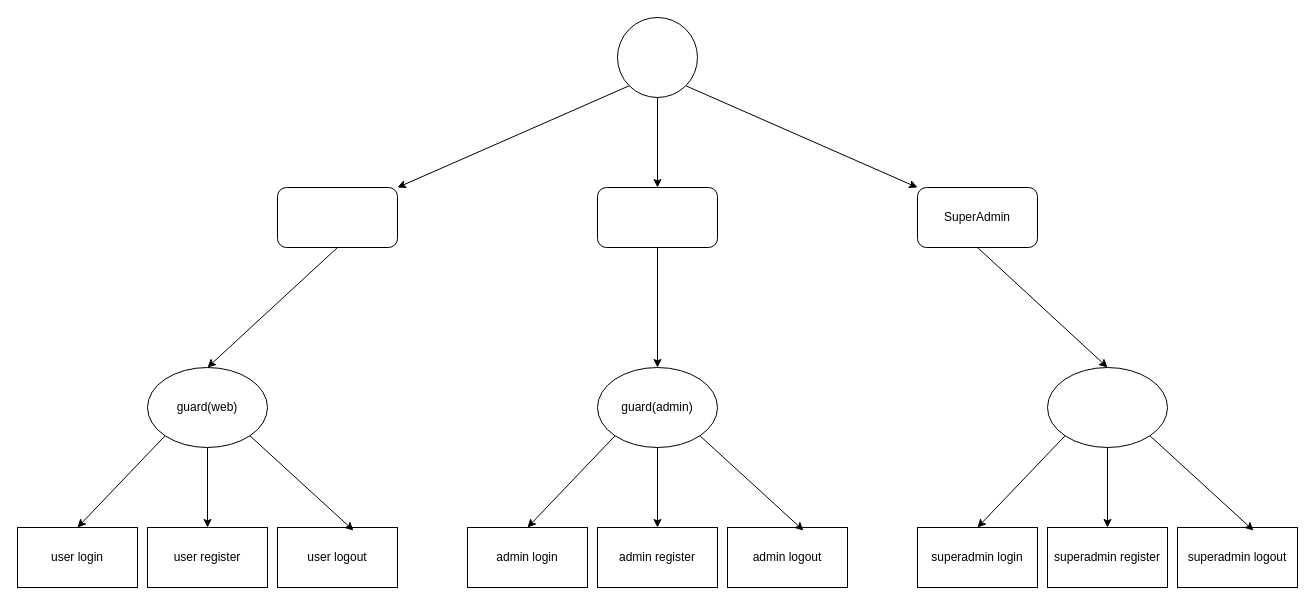
The diagram is 1315 pixels wide and 605 high, and some of its shapes have lost their labels. Each missing label, with the box of its shape:
Admin: (596, 186, 718, 248)
App: (616, 16, 698, 98)
guard(superadmin): (1046, 366, 1168, 448)
User: (276, 186, 398, 248)
